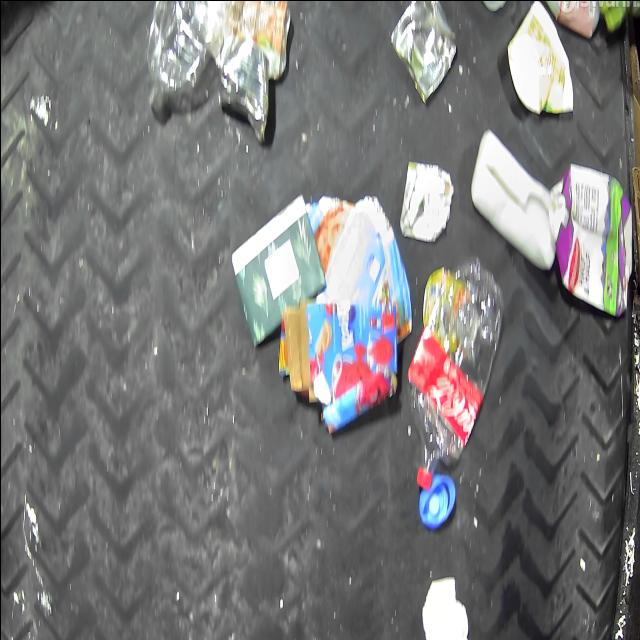can: (388, 0, 456, 102)
milk_jug: (518, 0, 598, 38)
non_white_jug: (546, 163, 632, 316), (220, 34, 269, 142)
plastic_bottle: (406, 266, 506, 487), (146, 0, 222, 103)
